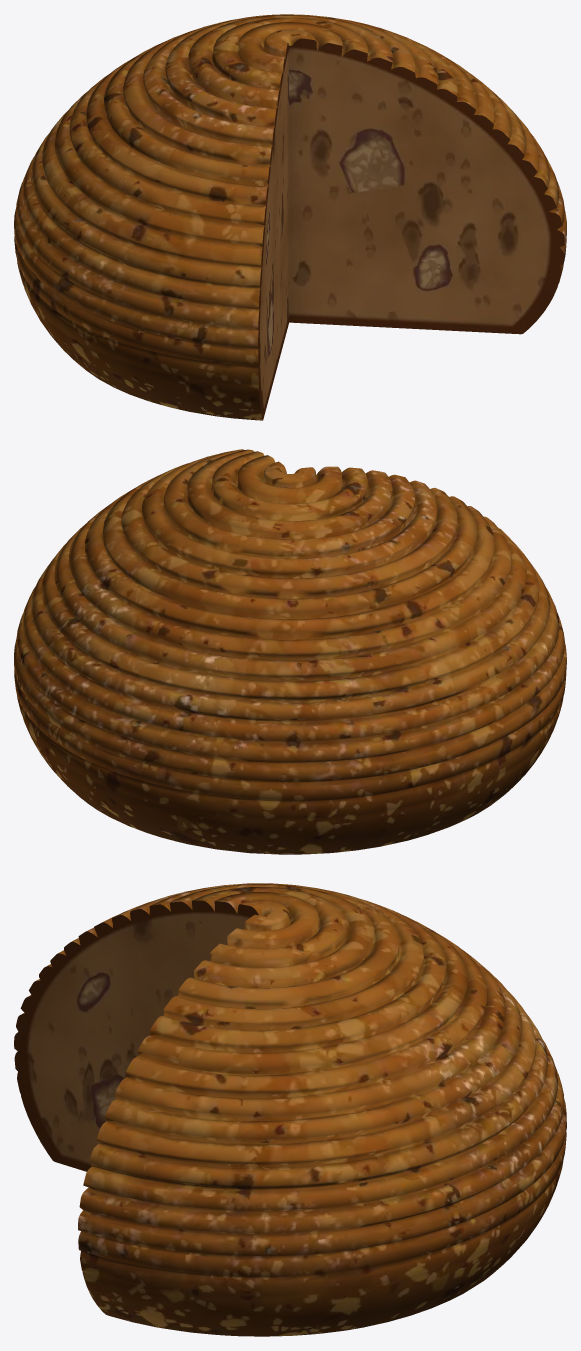
The model's file is wholewheat--walnut-piece.glb.
The picture shows the model from 3 angles, top to bottom: view 1: azimuth 30°, elevation 25°; view 2: azimuth 150°, elevation 25°; view 3: azimuth 270°, elevation 25°; orthographic projection. The views are drawn at different scales.
Visible parts, largest first — view 1: wholewheat_walnut-piece; view 2: wholewheat_walnut-piece; view 3: wholewheat_walnut-piece.
Boxes of the visible parts, bbox=[...] form: wholewheat_walnut-piece: bbox=[14, 14, 566, 420]; wholewheat_walnut-piece: bbox=[14, 449, 566, 854]; wholewheat_walnut-piece: bbox=[14, 883, 566, 1336].
Size of the model in its own units: 0.9999 by 0.5691 by 0.9005.
Materials: 1 (1 with a texture image).
